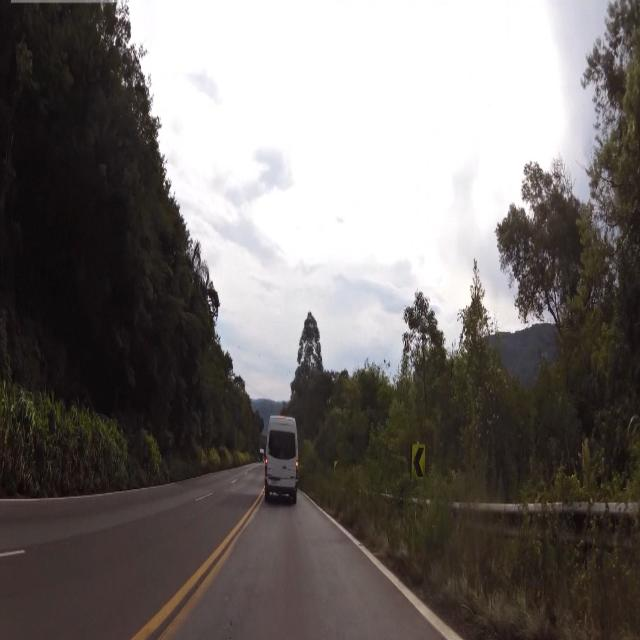Del: (411, 443, 428, 485)
